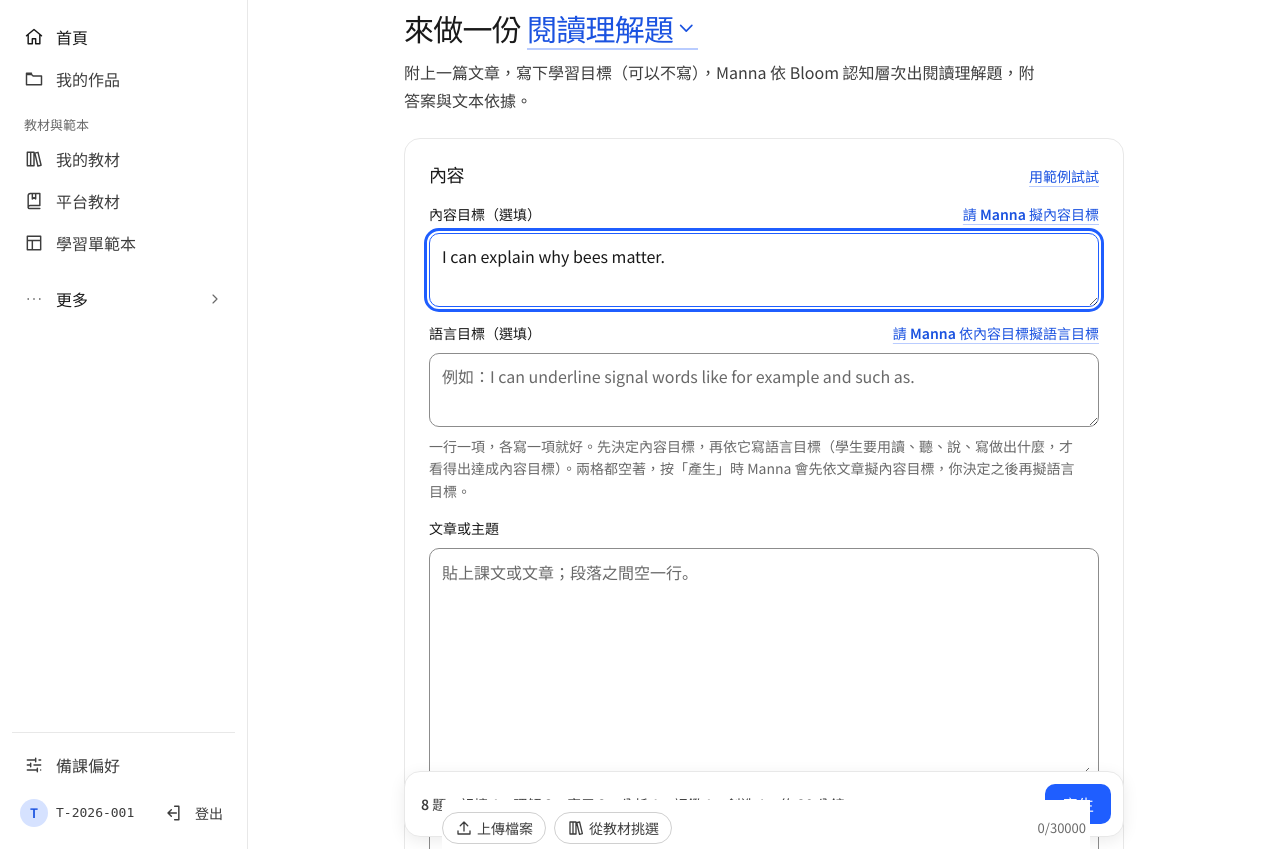
建立: the generator › the tool name in the heading switches tools and keeps what was filled in
This screenshot has width=1280, height=849.
Earlier steps of the test are not shown.
Type "Bees are busy." into the text box labelled "文章或主題" at (766, 666), box x1=442 y1=557 x2=1090 y2=776
(page scrolled)
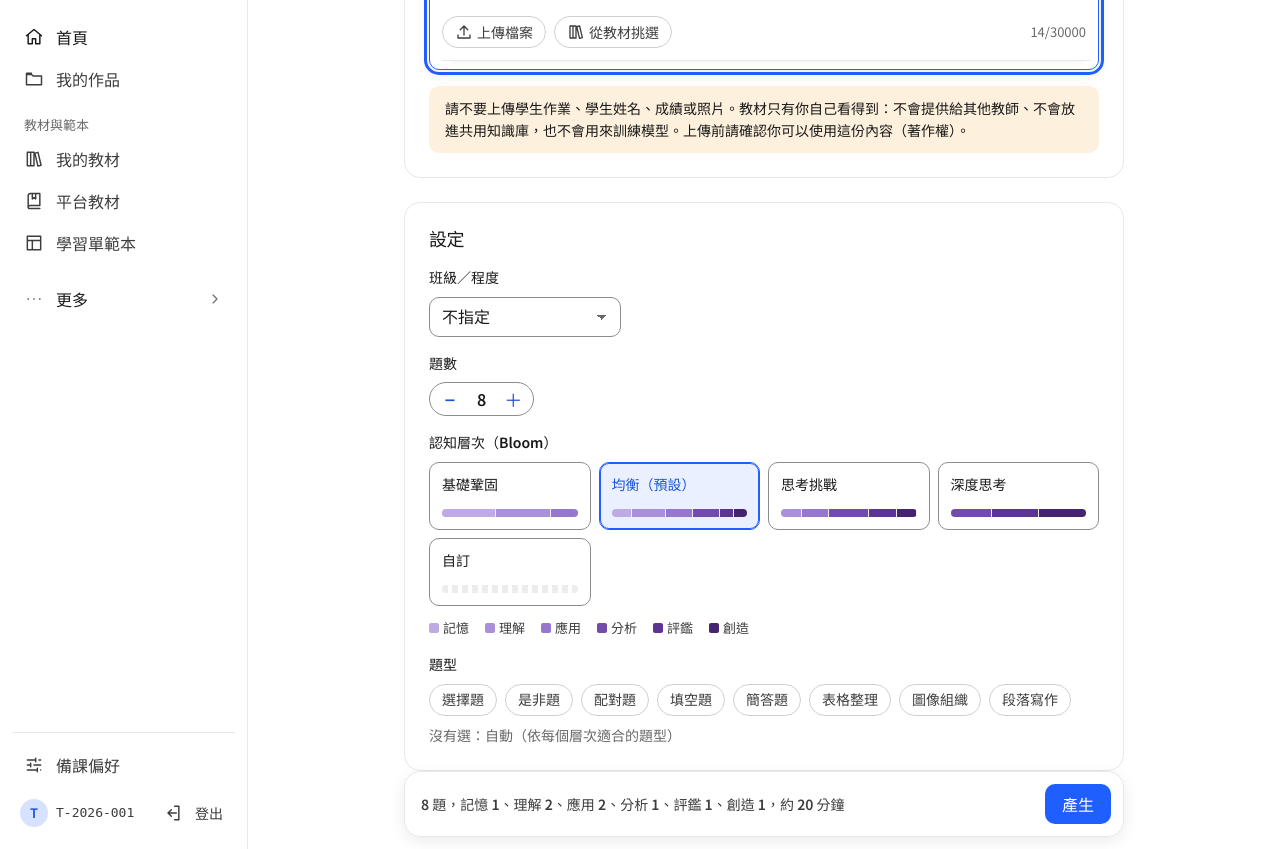
Click the button named "題數：多一題" at (513, 399), box x1=493 y1=383 x2=533 y2=415
(page scrolled)
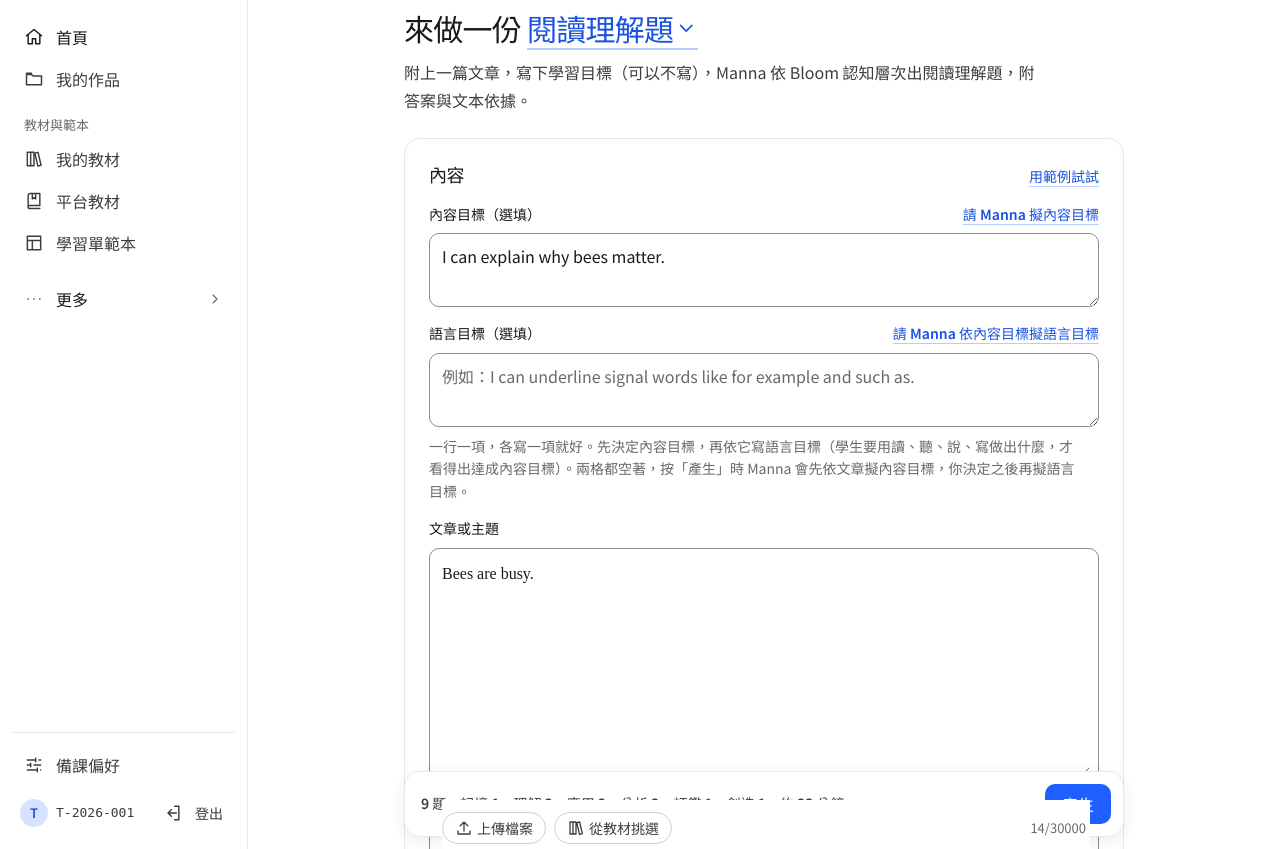
Click the button "閱讀理解題" at (612, 30), box x1=527 y1=9 x2=698 y2=50
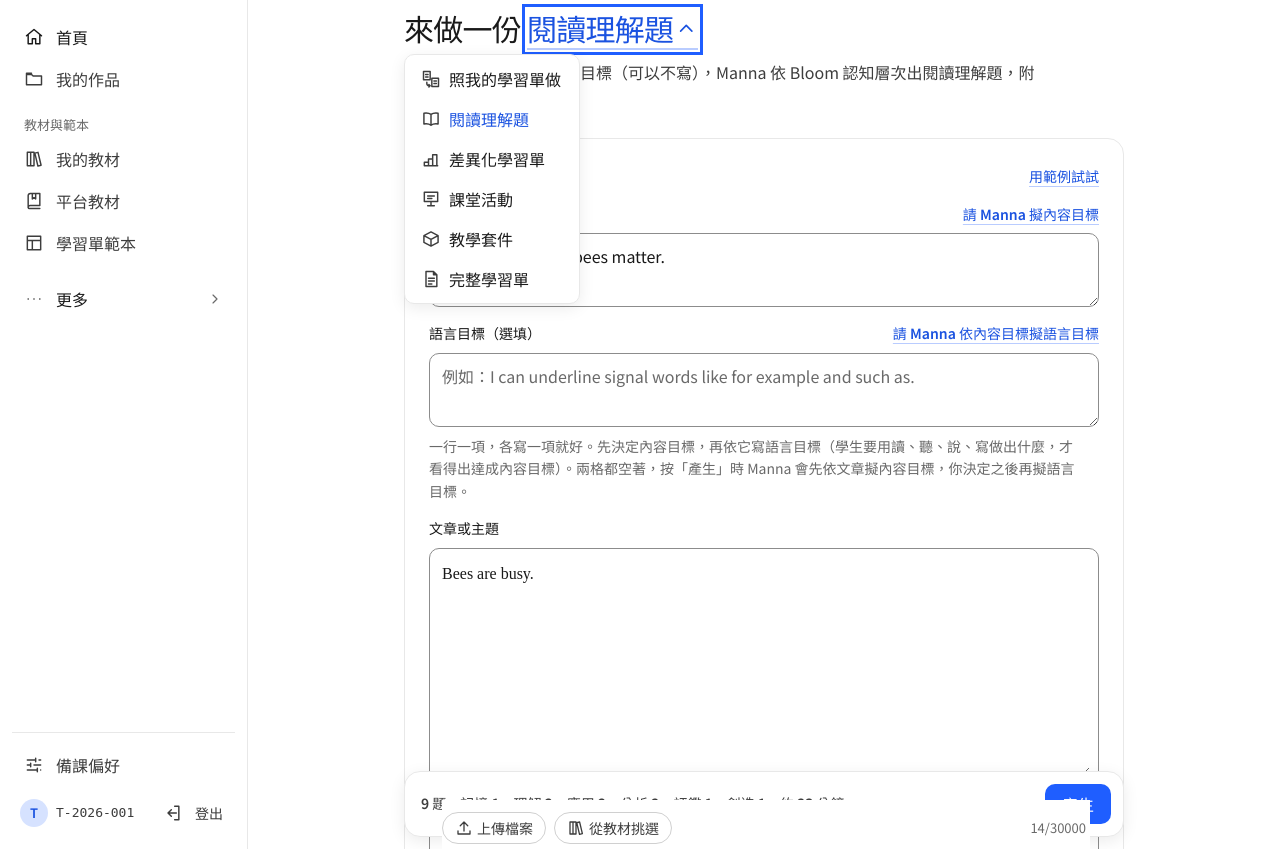
Now the button "閱讀理解題" is expanded, box x1=527 y1=9 x2=698 y2=50
Now the links read "照我的學習單做", "閱讀理解題", "差異化學習單", "課堂活動", "教學套件", "完整學習單", in this order, box x1=421 y1=67 x2=561 y2=91; x1=421 y1=107 x2=529 y2=131; x1=421 y1=147 x2=545 y2=171; x1=421 y1=187 x2=513 y2=211; x1=421 y1=227 x2=513 y2=251; x1=421 y1=267 x2=529 y2=291
Note: Escape closes the list and gives focus back.
Press Escape
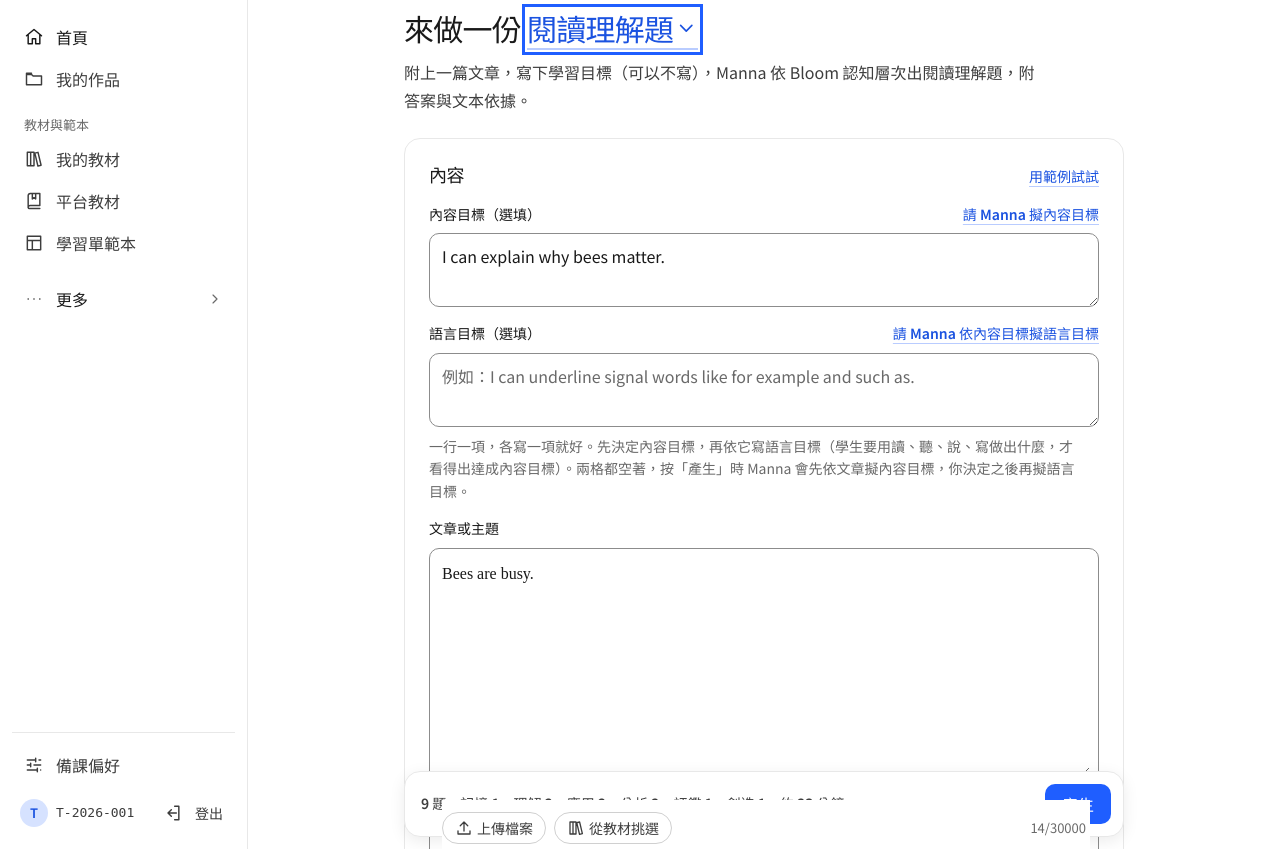
Now the element "換一種" is gone
Click the button "閱讀理解題" at (612, 30), box x1=527 y1=9 x2=698 y2=50
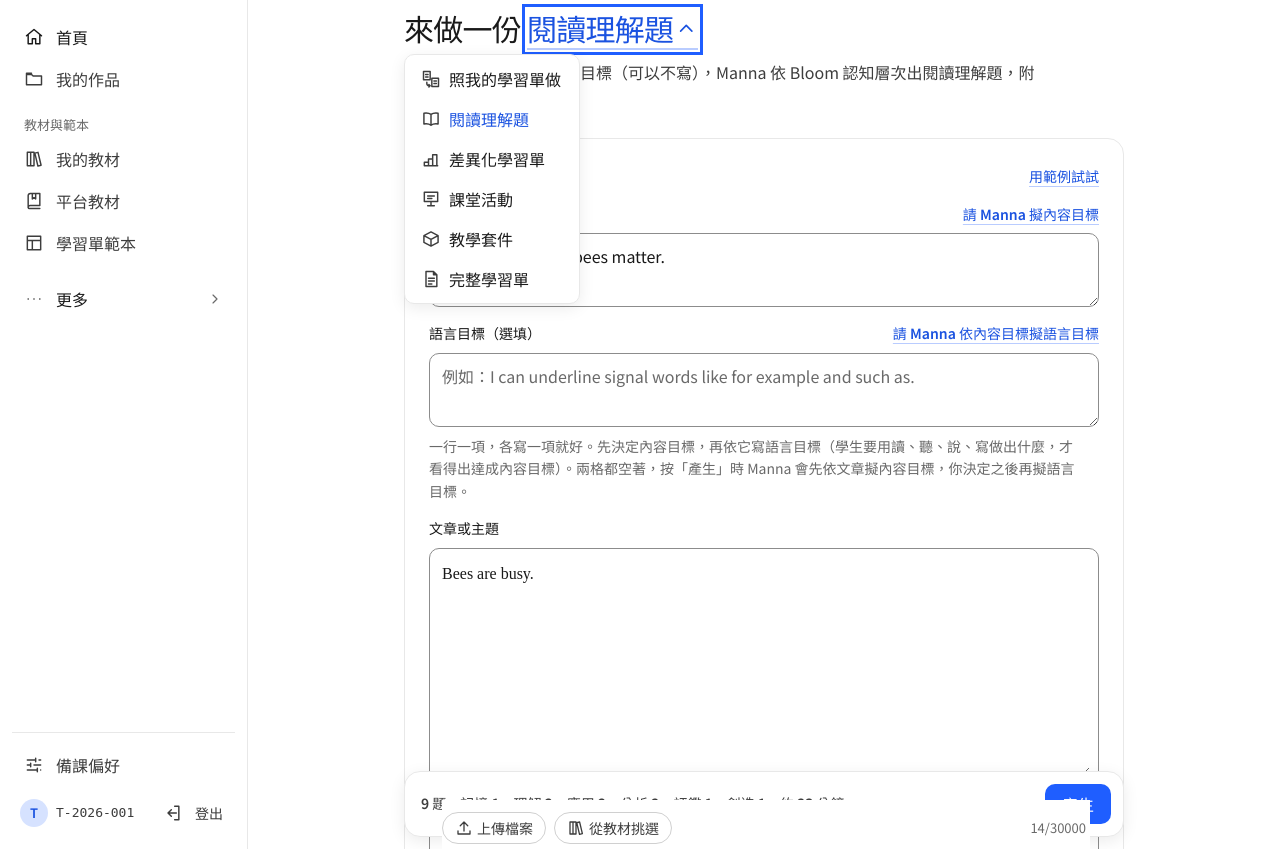
Click the link "差異化學習單" at (483, 159), box x1=421 y1=147 x2=545 y2=171
(page scrolled)
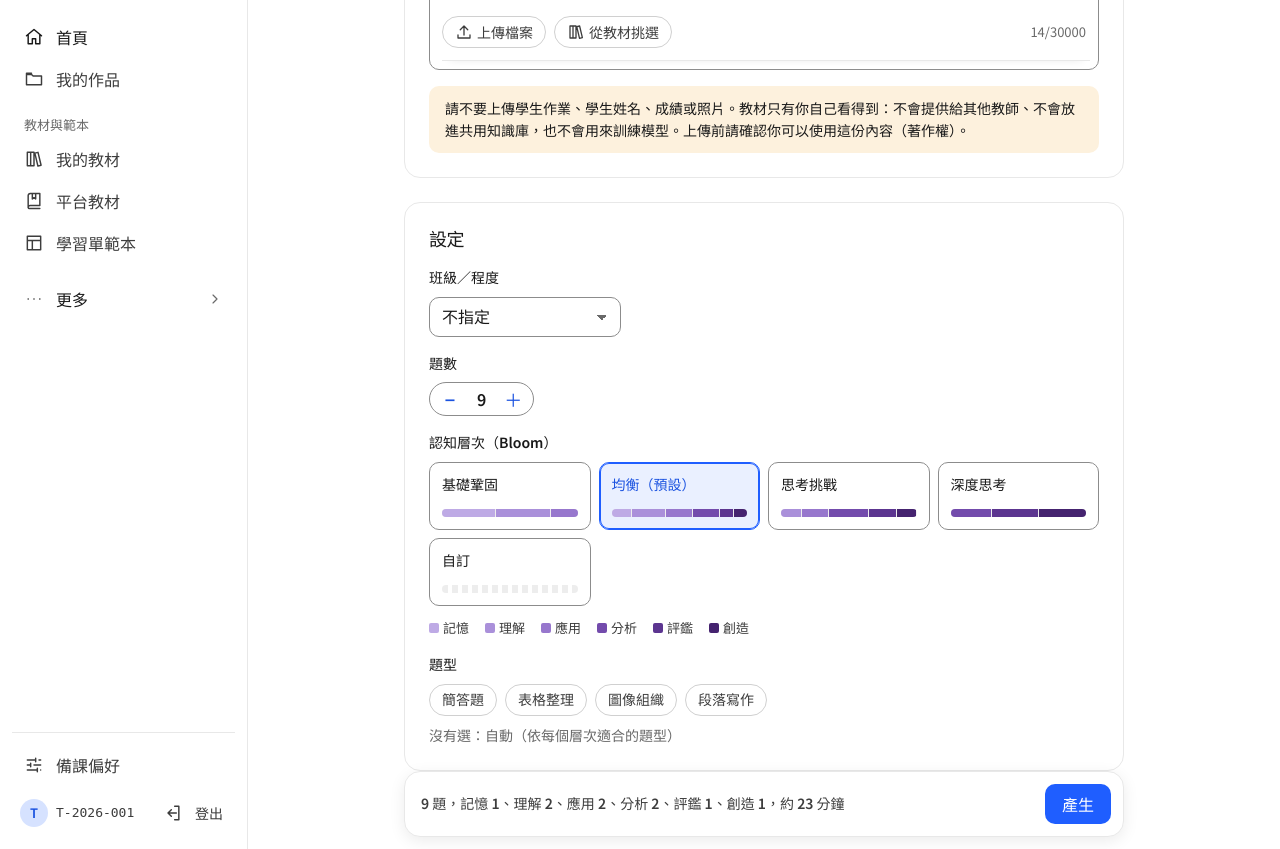
Now the text "9" is shown, box x1=477 y1=387 x2=486 y2=411
Now the element "換一種" is gone
